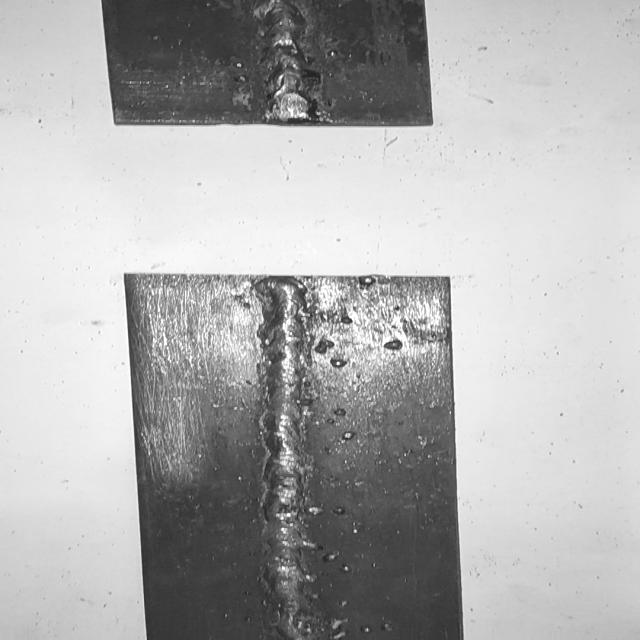Bad Weld: (254, 275, 323, 640)
Defect: (239, 596, 354, 640)
Good Weld: (243, 0, 326, 122)
